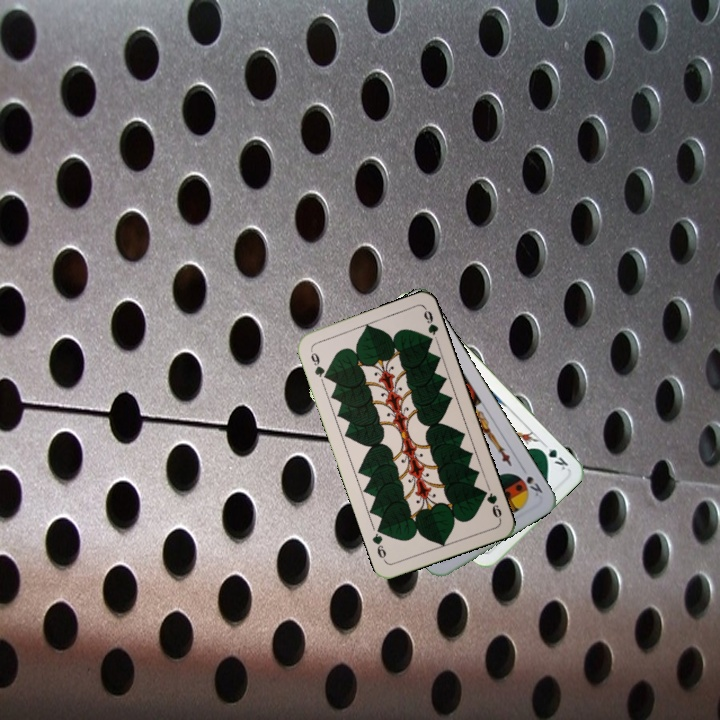G9: (478, 486, 504, 523), (306, 346, 331, 382)
GK: (535, 439, 571, 473)
SK: (517, 463, 545, 499)
